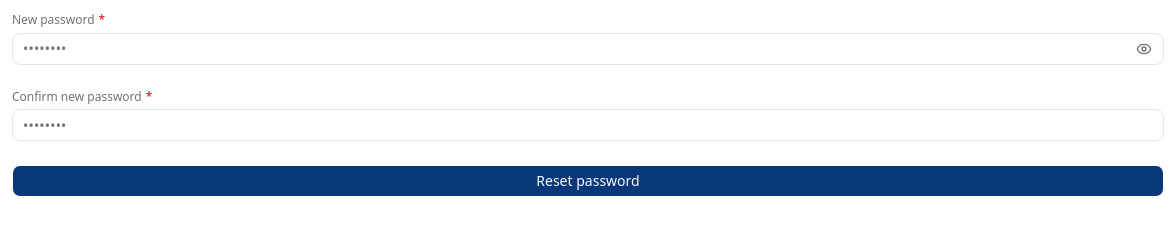
Scenario: ResetPasswordForm (S2) — behavioral (VT) › rejects a password shorter than 8 characters
Type "short" into the password field with id "reset-password" at (588, 48), box [12, 32, 1164, 64]
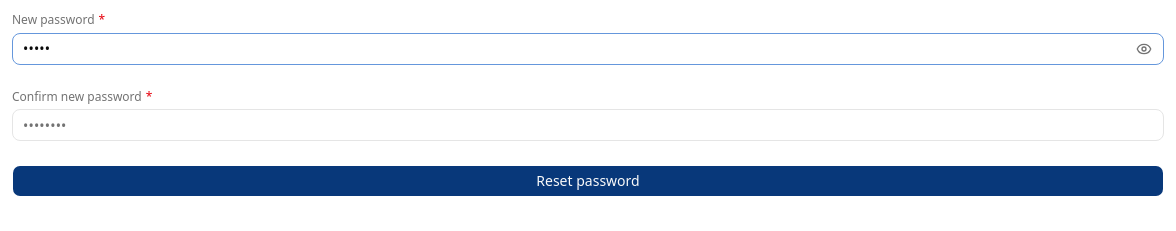
Type "short" into the password field with id "reset-password-confirmation" at (588, 125), box [12, 109, 1164, 141]
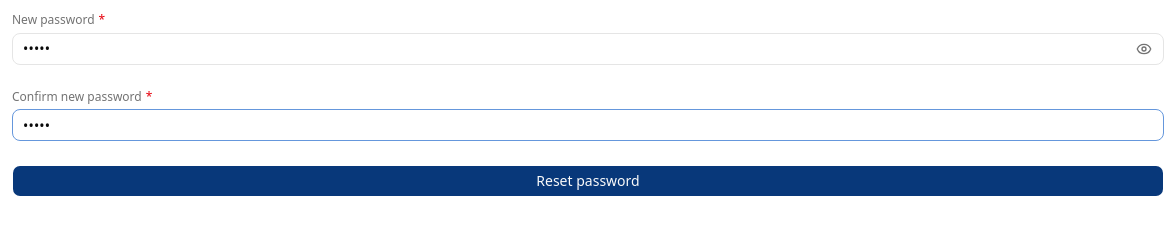
Click the button "Reset password" at (588, 181), box [12, 165, 1164, 197]
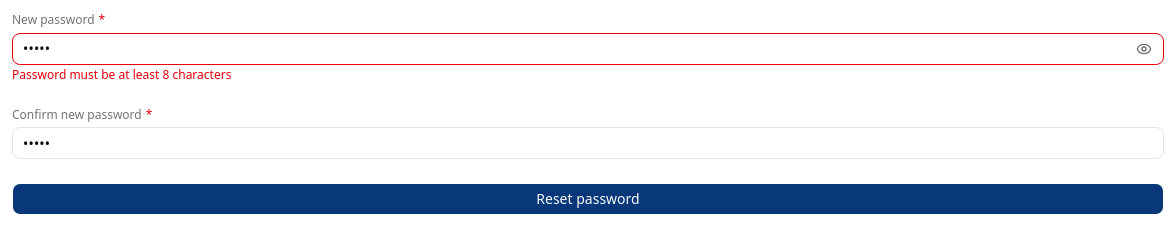
Result: the text "Password must be at least 8 characters" is shown at [12, 66, 231, 82]
